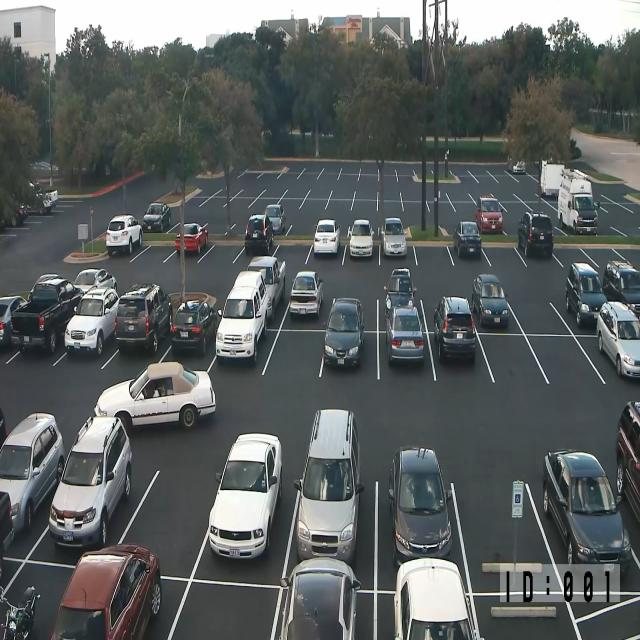car: (48, 413, 132, 548), (293, 407, 364, 564), (542, 449, 631, 571), (50, 543, 162, 639), (208, 432, 282, 560), (94, 361, 216, 432), (0, 411, 65, 535), (388, 445, 452, 566), (270, 556, 361, 640), (394, 557, 484, 639), (11, 274, 84, 354), (215, 270, 270, 362), (114, 282, 172, 353), (64, 286, 119, 356), (596, 301, 640, 378), (615, 399, 640, 524), (323, 296, 365, 368), (433, 295, 476, 363), (565, 261, 607, 327), (170, 298, 217, 356), (246, 256, 286, 322), (558, 169, 598, 235), (384, 304, 425, 364), (0, 584, 41, 640), (602, 259, 640, 317), (472, 274, 509, 327), (517, 210, 554, 258), (289, 270, 323, 318), (383, 267, 417, 315), (106, 214, 142, 255), (0, 294, 26, 347), (0, 489, 15, 578), (73, 268, 118, 296), (244, 212, 273, 254), (475, 195, 503, 234), (174, 222, 208, 254), (347, 218, 374, 258), (454, 220, 482, 258), (313, 218, 341, 255), (381, 217, 406, 256), (142, 202, 171, 232), (264, 203, 286, 235), (11, 202, 28, 226), (30, 160, 58, 172), (0, 407, 7, 452), (43, 189, 58, 209), (29, 179, 42, 197), (512, 160, 526, 173)
